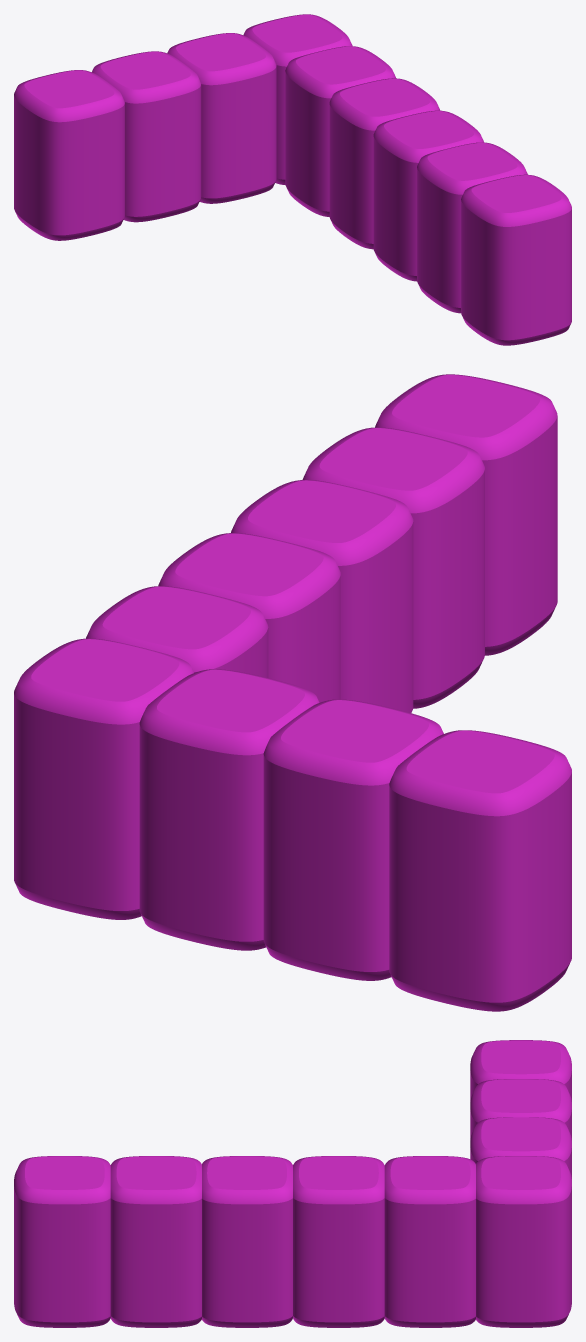
The model's file is Letter_L.fbx.
3 views of the same model, one above another, from view 1: azimuth 30°, elevation 25°; view 2: azimuth 150°, elevation 25°; view 3: azimuth 270°, elevation 25° (orthographic). The views are drawn at different scales.
Parts seen in each view (by area): view 1: Letter_L; view 2: Letter_L; view 3: Letter_L.
Boxes of the visible parts, x1,y1,x2,y2 form: Letter_L: (14,14,571,345); Letter_L: (14,374,571,1011); Letter_L: (14,1040,571,1327).
Bounding box in the file's own units: 0.3465 × 0.14 × 0.5146.
